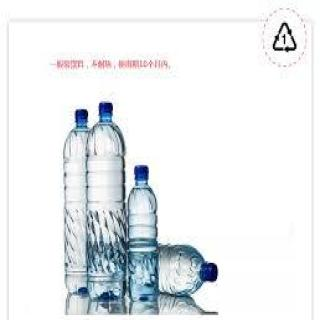Plastic-bottle: (85, 102, 130, 305), (63, 107, 97, 290), (128, 163, 161, 306), (160, 239, 221, 300)
